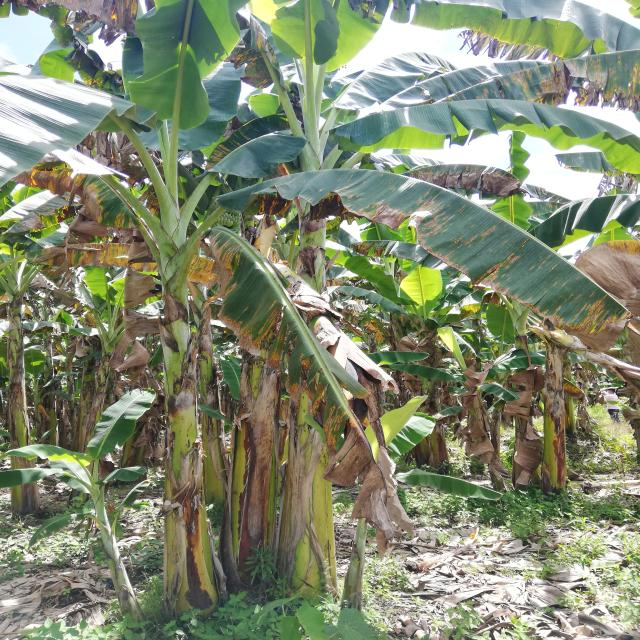Banana-plant: (133, 178, 217, 616), (287, 117, 345, 606), (236, 276, 282, 602), (69, 333, 125, 480), (1, 306, 36, 518), (537, 329, 576, 502)
